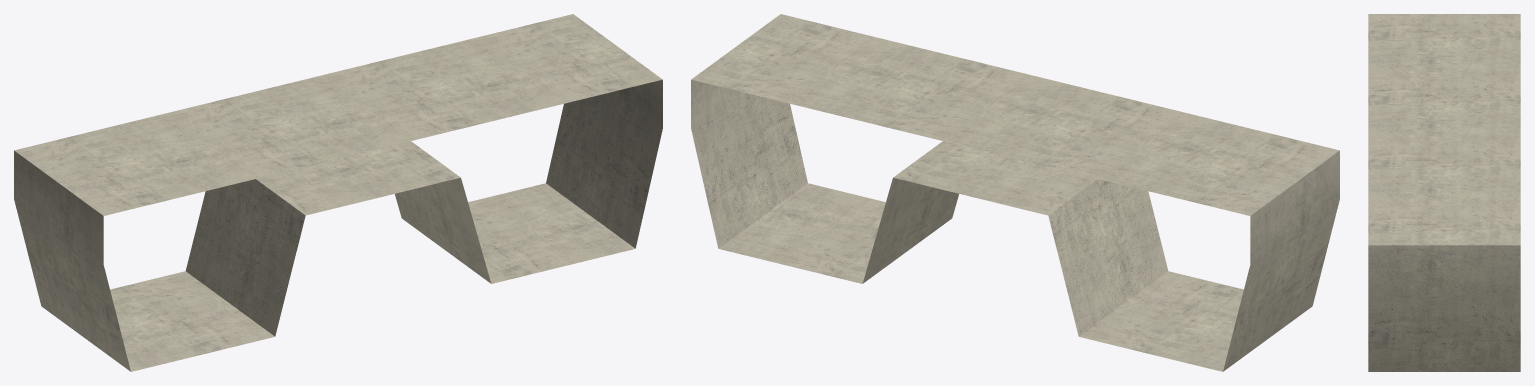
Rendered from BridgeBase3-18w-5l-5d.FBX.
3 renders of one model, left to right at view 1: azimuth 30°, elevation 25°; view 2: azimuth 150°, elevation 25°; view 3: azimuth 270°, elevation 25°, orthographic. The views are drawn at different scales.
Visible parts, largest first — view 1: BridgeBase3-18w-5l-5d; view 2: BridgeBase3-18w-5l-5d; view 3: BridgeBase3-18w-5l-5d.
Boxes of the visible parts, bbox=[...] form: BridgeBase3-18w-5l-5d: bbox=[14, 14, 662, 371]; BridgeBase3-18w-5l-5d: bbox=[691, 14, 1339, 371]; BridgeBase3-18w-5l-5d: bbox=[1368, 14, 1520, 371].
Size of the model in its own units: 18 by 5 by 5.
